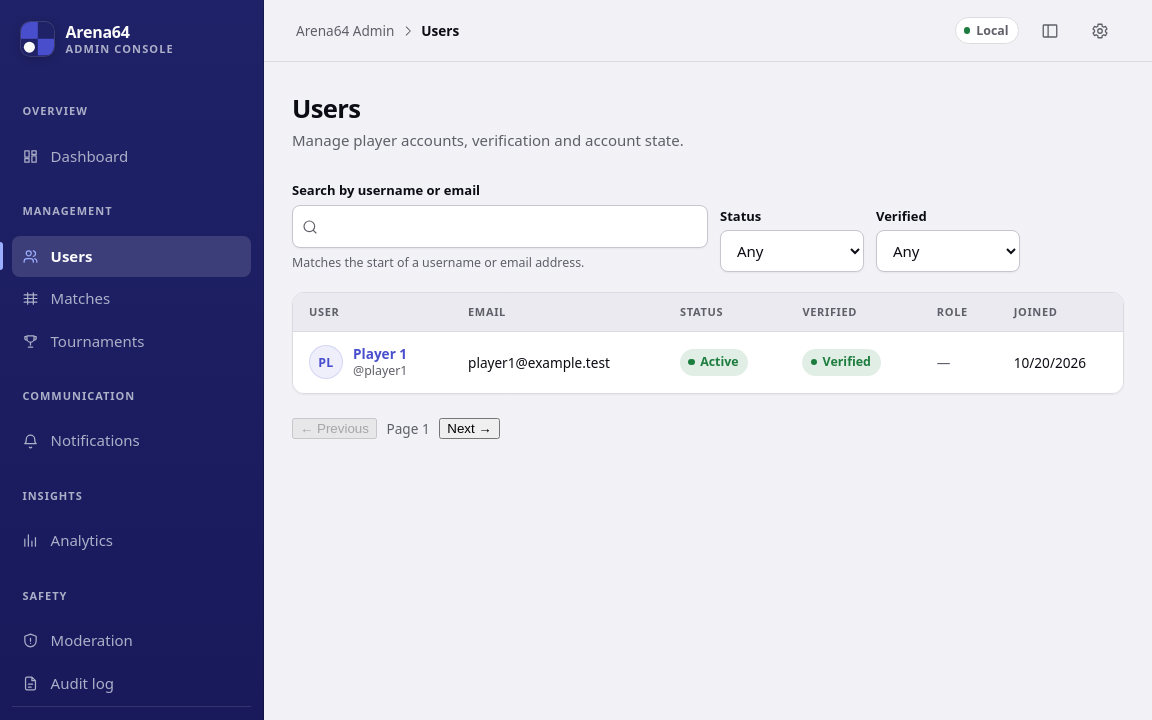
Test case: says a page failed to load rather than leaving the operator on the last one
This screenshot has width=1152, height=720.
Click the button "Next →".
click(470, 428)  # box x1=439 y1=418 x2=500 y2=439
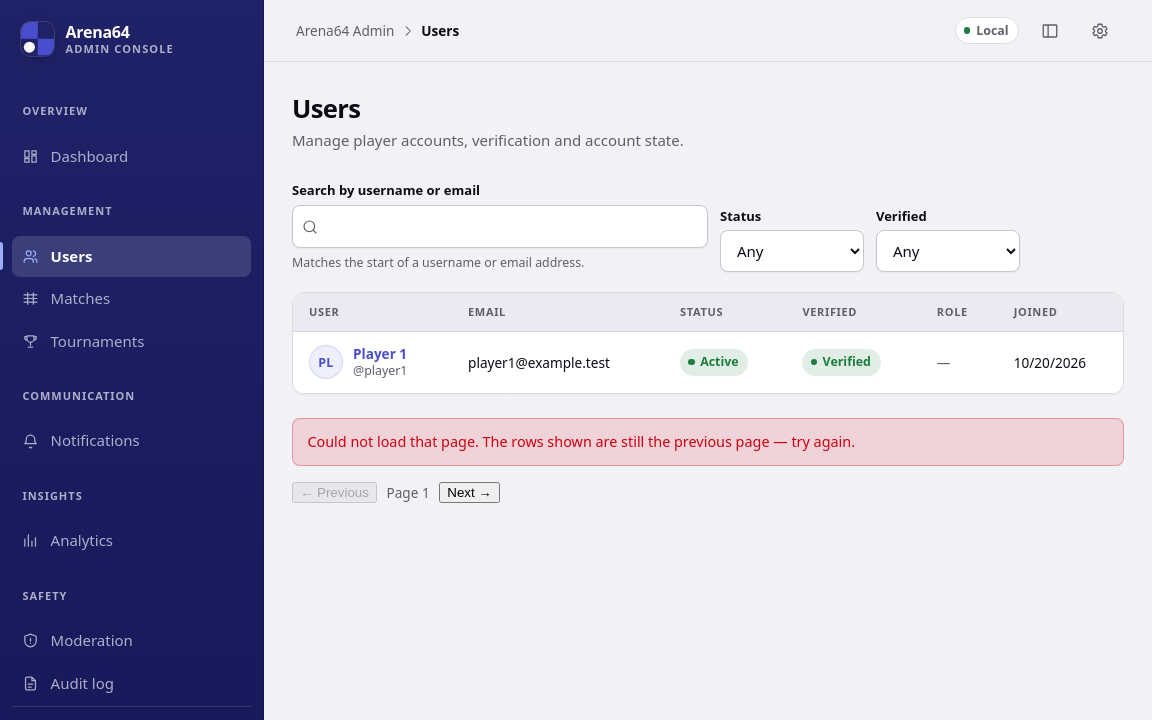
Expected: the text "player1@example.test" is shown, x1=452 y1=332 x2=664 y2=393
Expected: the message shows "Could not load that page", x1=307 y1=432 x2=855 y2=451
